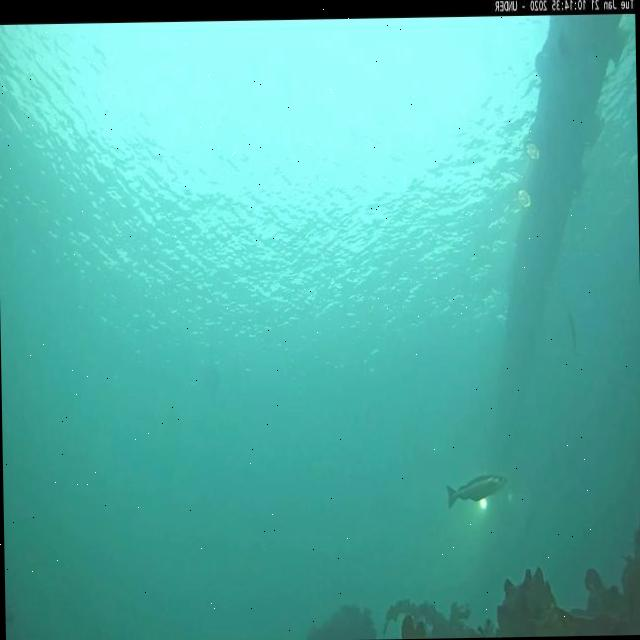fish: (446, 472, 508, 508), (566, 306, 577, 354)
